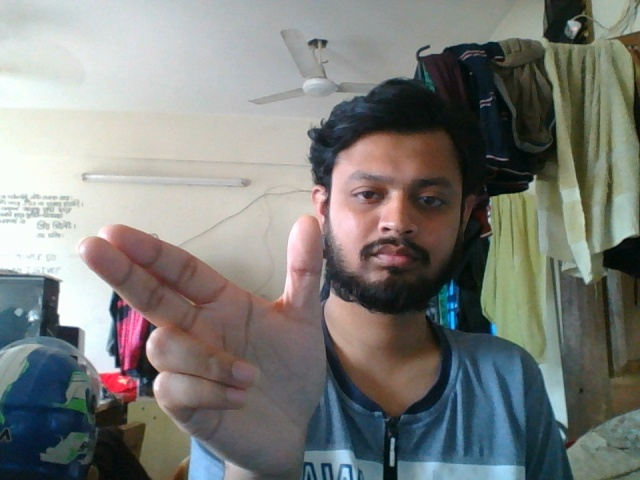jha: (69, 210, 331, 472)
